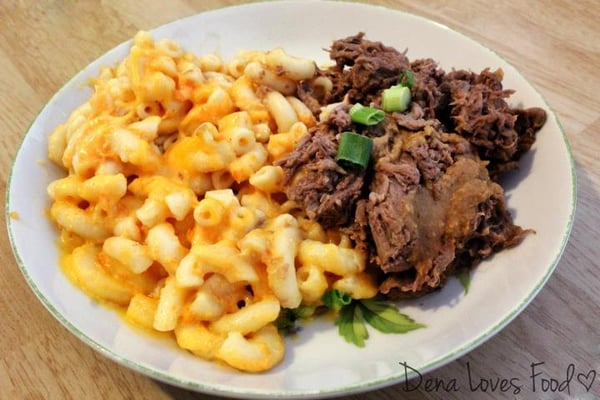curry: (1, 0, 581, 394)
